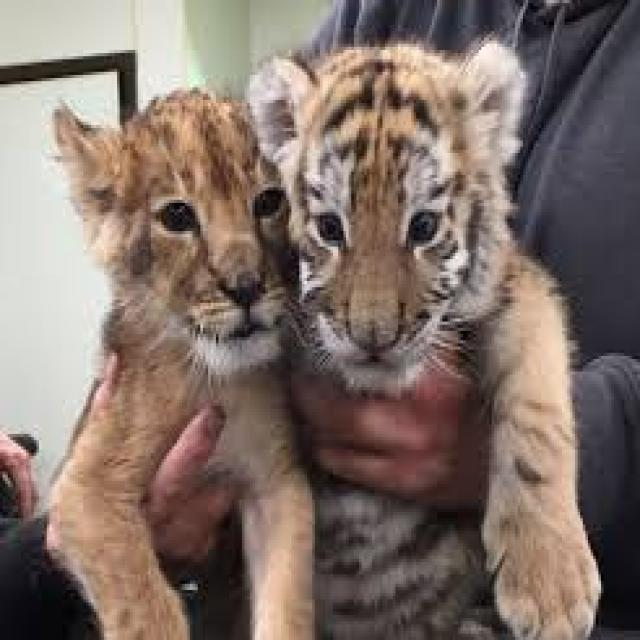Lion: (49, 89, 316, 637)
